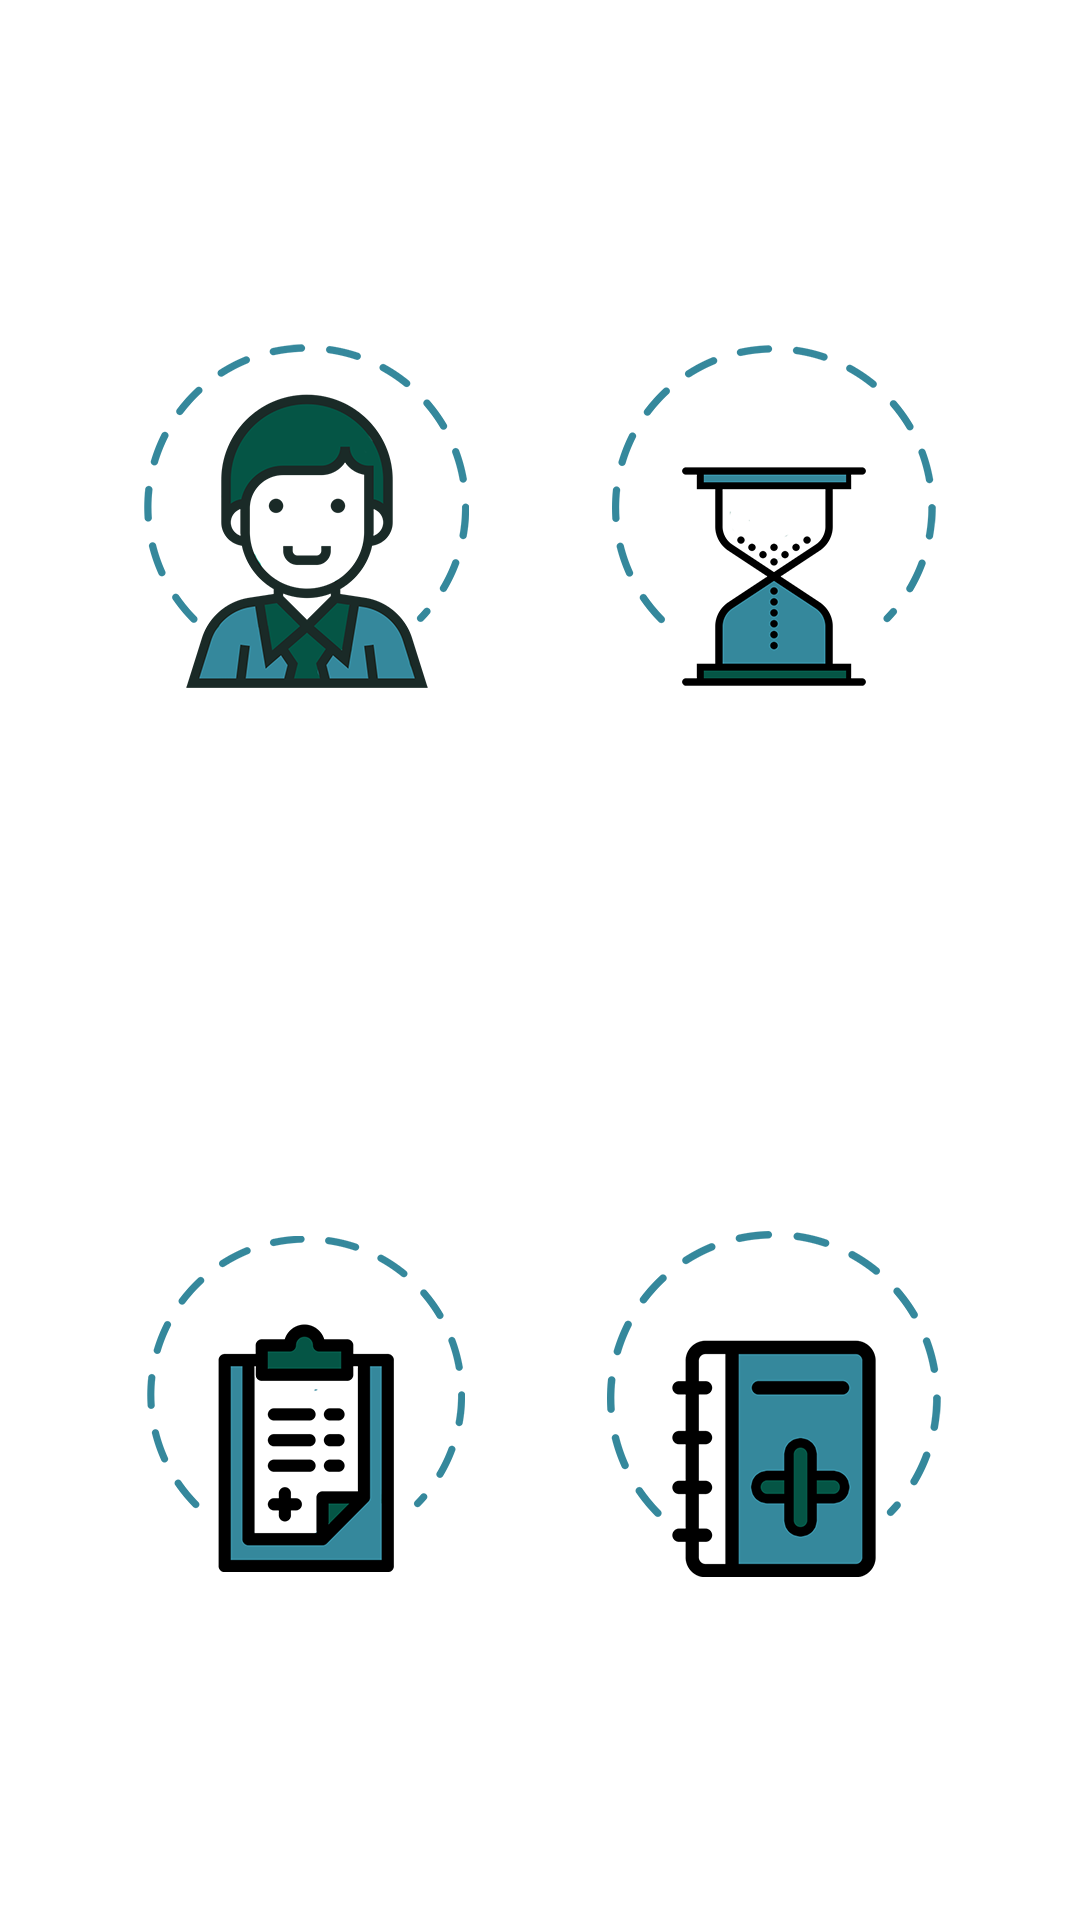

Icon click points for this 1080 × 1920 phone screenshot, format point (x, y):
Diary: point (774, 1404)
History: point (774, 515)
My Profile: point (306, 516)
Report: point (306, 1404)
